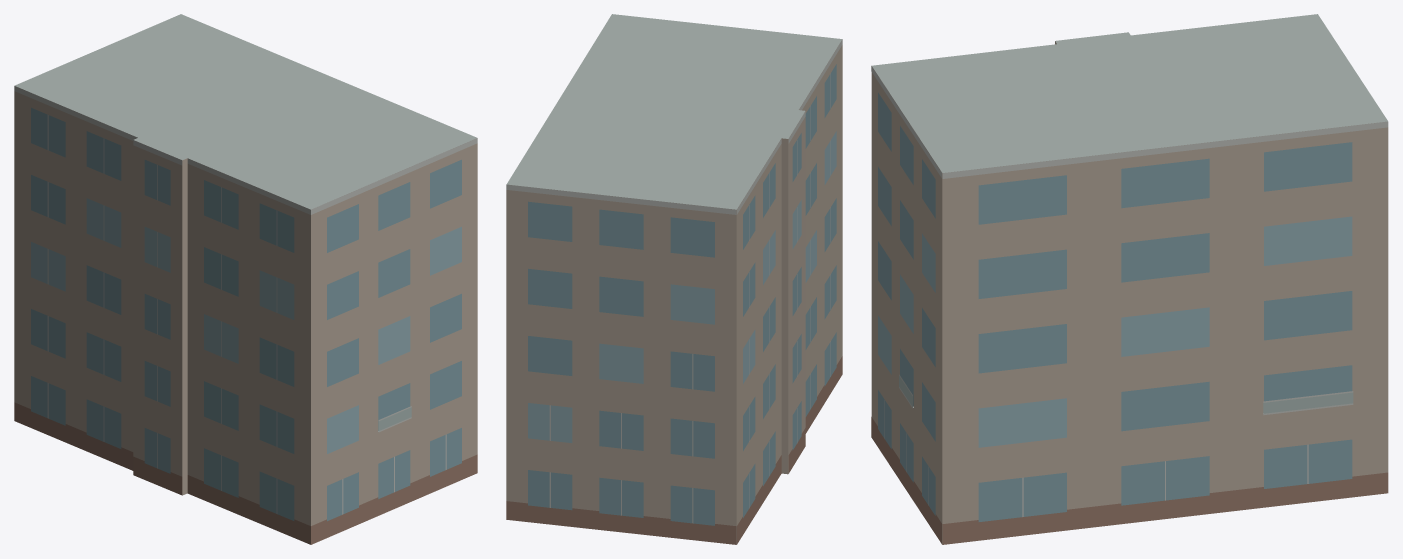
Rendered from survey-upis-32750664.glb.
The picture shows the model from 3 angles, left to right: view 1: azimuth 30°, elevation 25°; view 2: azimuth 150°, elevation 25°; view 3: azimuth 270°, elevation 25°; orthographic projection. The views are drawn at different scales.
Parts seen in each view (by area): view 1: survey-upis-32750664.tmp; view 2: survey-upis-32750664.tmp; view 3: survey-upis-32750664.tmp.
Boxes of the visible parts, x1=… form: survey-upis-32750664.tmp: x1=14, y1=14, x2=477, y2=544; survey-upis-32750664.tmp: x1=506, y1=14, x2=842, y2=544; survey-upis-32750664.tmp: x1=871, y1=14, x2=1388, y2=544.
Size of the model in its own units: 14.06 by 15.3 by 19.29.
